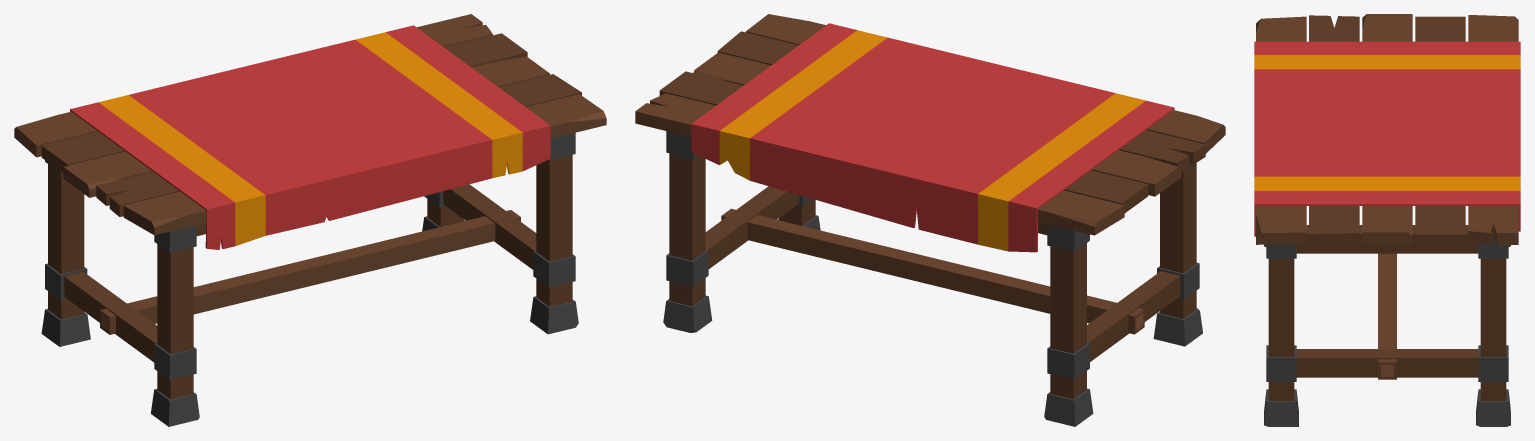
File: Furniture_11.glb
The picture shows the model from 3 angles, left to right: view 1: azimuth 30°, elevation 25°; view 2: azimuth 150°, elevation 25°; view 3: azimuth 270°, elevation 25°; orthographic projection. The views are drawn at different scales.
Visible parts, largest first — view 1: Furniture_11_LOD0; view 2: Furniture_11_LOD0; view 3: Furniture_11_LOD0.
Boxes of the visible parts, bbox=[...] form: Furniture_11_LOD0: bbox=[14, 14, 606, 426]; Furniture_11_LOD0: bbox=[635, 14, 1225, 426]; Furniture_11_LOD0: bbox=[1254, 14, 1520, 426].
Size of what is drawn, in the model's own units: 2.02 by 0.8828 by 1.03.
Materials: 1 (1 with a texture image).
